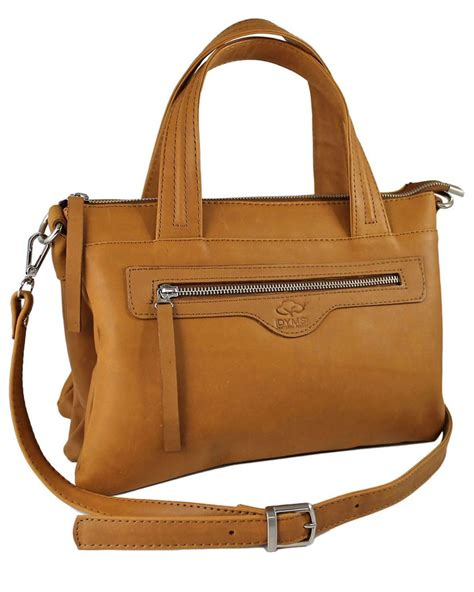cuero: (10, 18, 454, 553)
